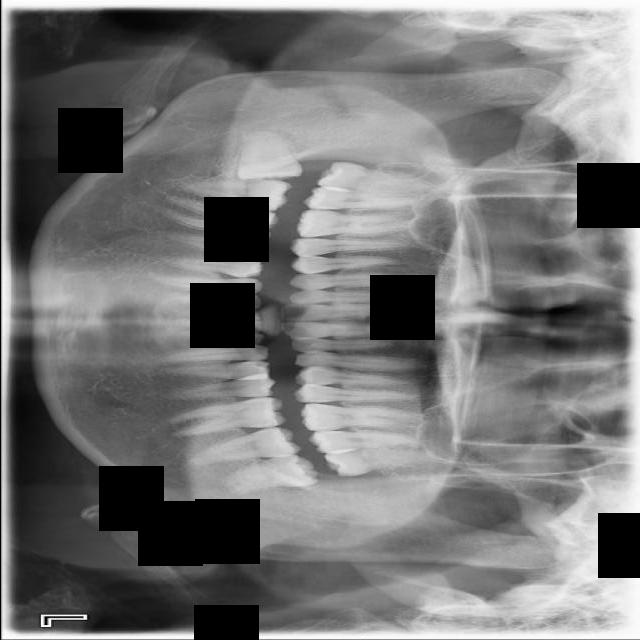3M ESPE Implant: (313, 159, 432, 201)
73: (19, 617, 33, 626)
BioHorizons Implant: (307, 430, 426, 457)
BioLife Implant: (323, 437, 432, 481)
Biomet 3i Implant: (218, 449, 320, 497)
Blue Sky Bio Implant: (187, 425, 301, 465)
Caries: (303, 183, 416, 211)
Implant: (178, 172, 292, 213)
Keystone Dental Implant: (234, 129, 303, 181)
